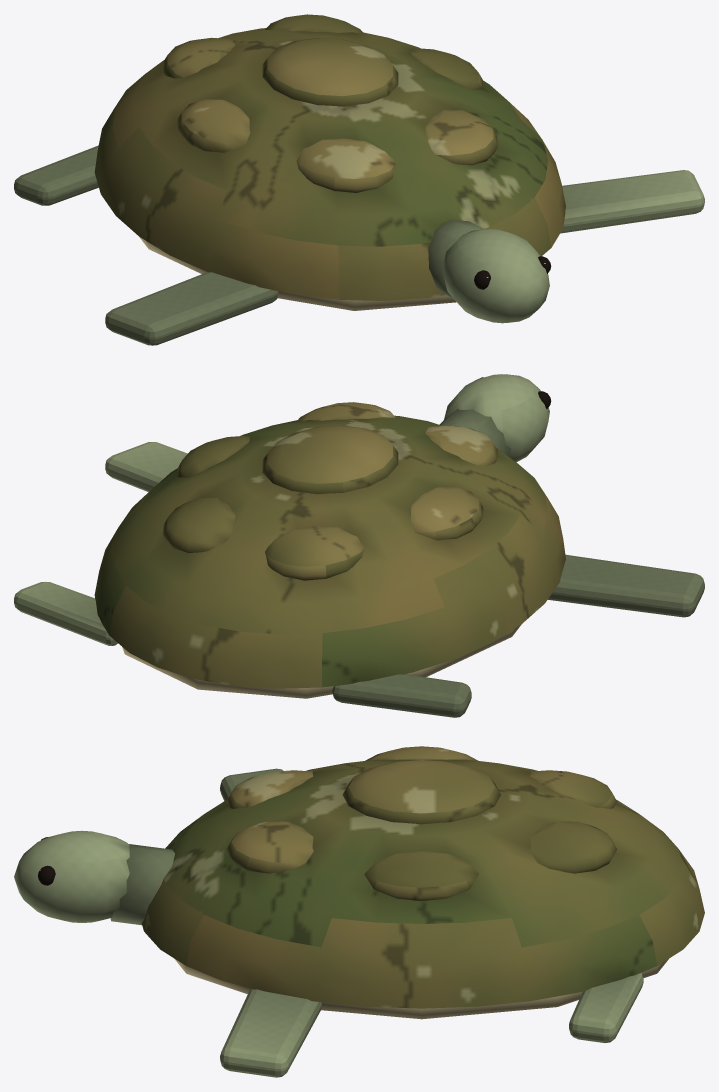
The model's file is turtle.glb.
The picture shows the model from 3 angles, top to bottom: view 1: azimuth 30°, elevation 25°; view 2: azimuth 150°, elevation 25°; view 3: azimuth 270°, elevation 25°; orthographic projection. The views are drawn at different scales.
Visible parts, largest first — view 1: turtle_mesh, head_mesh, flipFR_mesh, flipFL_mesh, flipBR_mesh; view 2: turtle_mesh, flipFR_mesh, head_mesh, flipBR_mesh, flipBL_mesh, flipFL_mesh; view 3: turtle_mesh, head_mesh, flipFL_mesh, flipBL_mesh, flipFR_mesh.
Part boxes in pixels (left/top/right/bottom): turtle_mesh: left=94, top=14, right=565, bottom=310; head_mesh: left=428, top=220, right=551, bottom=323; flipFR_mesh: left=105, top=272, right=278, bottom=345; flipFL_mesh: left=560, top=170, right=704, bottom=233; flipBR_mesh: left=14, top=145, right=98, bottom=205; turtle_mesh: left=94, top=402, right=565, bottom=698; flipFR_mesh: left=548, top=554, right=704, bottom=617; head_mesh: left=439, top=374, right=551, bottom=461; flipBR_mesh: left=332, top=674, right=471, bottom=717; flipBL_mesh: left=14, top=581, right=117, bottom=645; flipFL_mesh: left=105, top=442, right=187, bottom=491; turtle_mesh: left=141, top=746, right=704, bottom=1019; head_mesh: left=14, top=830, right=174, bottom=925; flipFL_mesh: left=220, top=988, right=321, bottom=1077; flipBL_mesh: left=569, top=973, right=643, bottom=1042; flipFR_mesh: left=220, top=768, right=283, bottom=800.
Size of the model in its own units: 0.6143 by 0.156 by 0.61.
6 materials, 3 textured.
